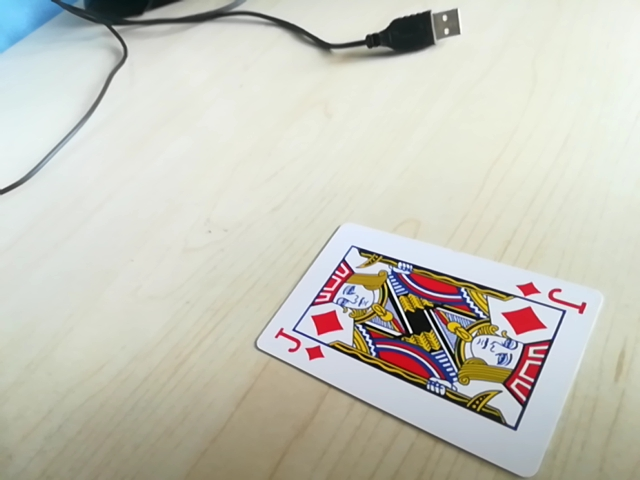fk j: (519, 280, 587, 312), (270, 333, 326, 365)
